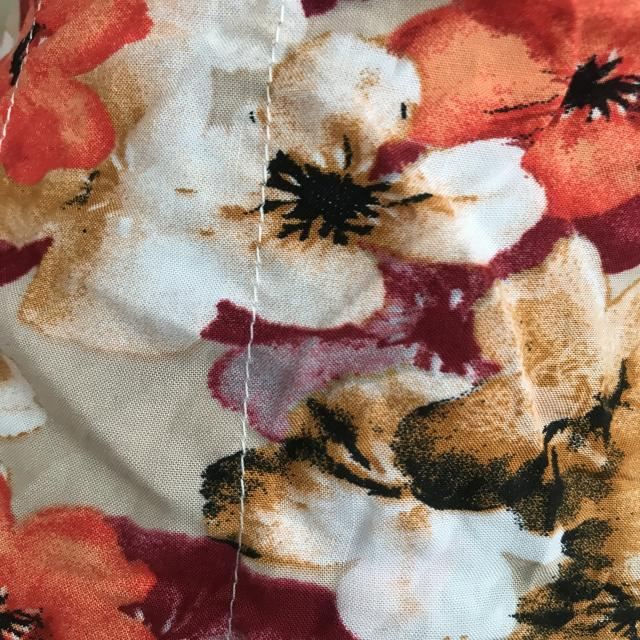good: (234, 322, 271, 427), (258, 63, 284, 160), (230, 459, 251, 571)
